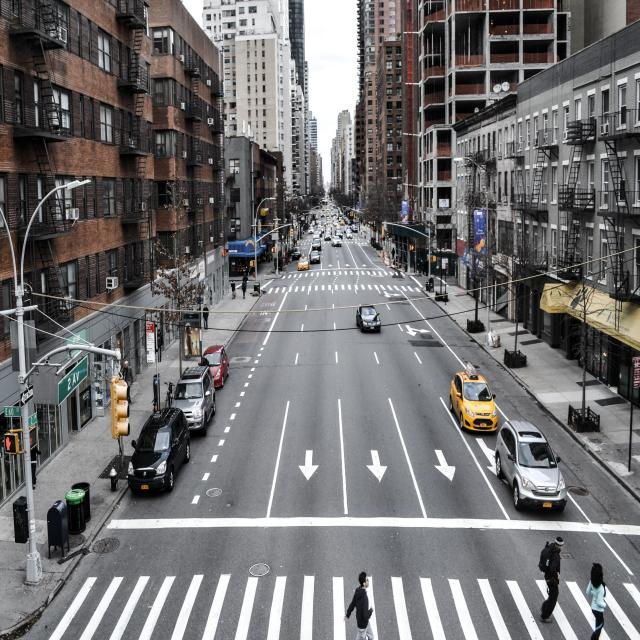Passenger Car: (448, 369, 499, 434), (356, 306, 382, 335), (216, 344, 230, 395)
Pedestrians: (339, 572, 380, 638), (538, 536, 568, 624), (584, 562, 612, 638)
Sport-Utility-Vehicle: (496, 420, 568, 517), (126, 407, 190, 499), (170, 365, 214, 442)
